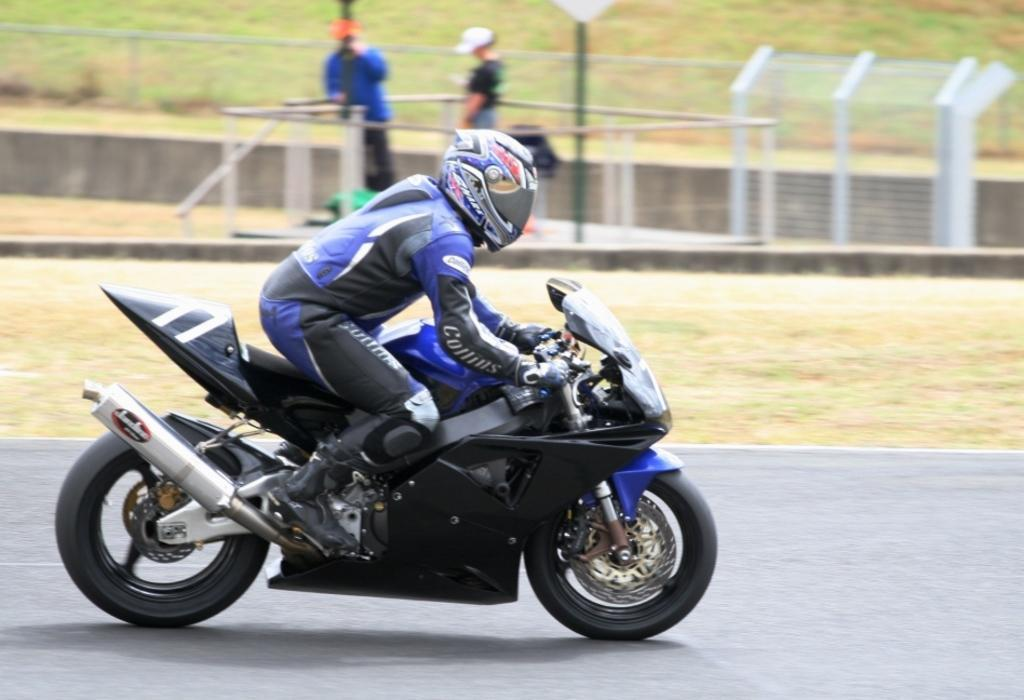helmet: (438, 128, 538, 253)
